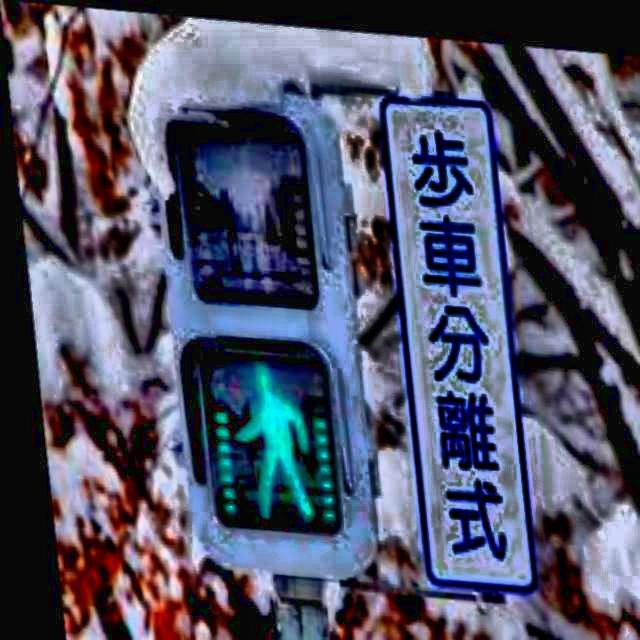semaforo pedestre: (76, 53, 560, 640)
